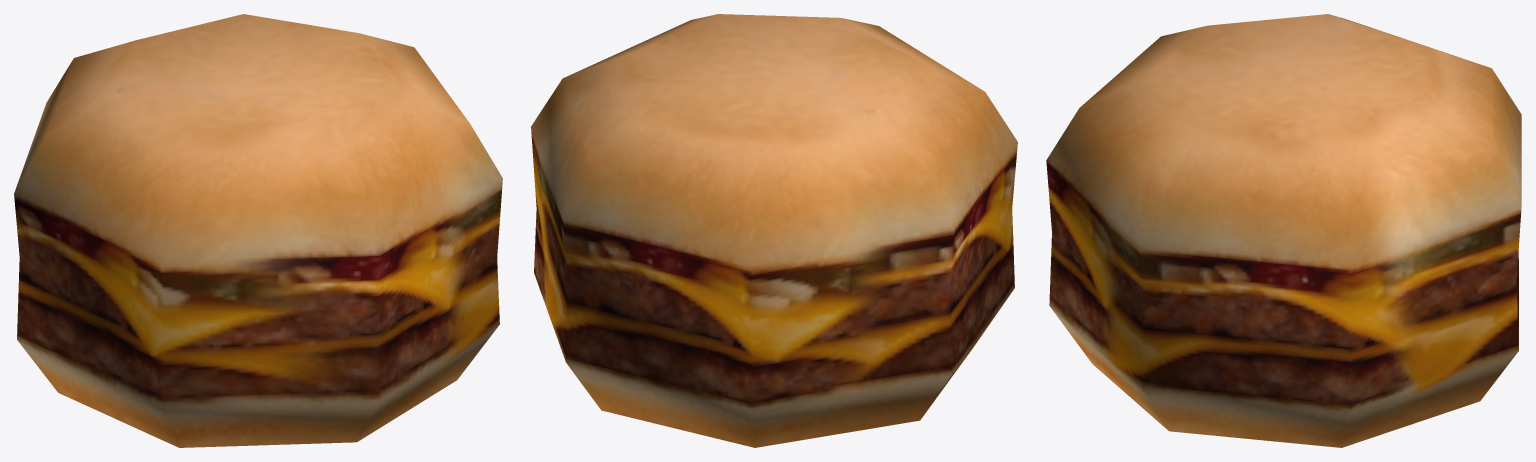
Rendered from Hamburger_03.dae.
The picture shows the model from 3 angles, left to right: view 1: azimuth 30°, elevation 25°; view 2: azimuth 150°, elevation 25°; view 3: azimuth 270°, elevation 25°; orthographic projection.
Parts seen in each view (by area): view 1: Hamburger_03; view 2: Hamburger_03; view 3: Hamburger_03.
Part boxes in pixels (x1=…): Hamburger_03: x1=14, y1=14, x2=502, y2=447; Hamburger_03: x1=531, y1=14, x2=1017, y2=447; Hamburger_03: x1=1046, y1=14, x2=1521, y2=447.
Bounding box in the file's own units: 0.1976 × 0.1927 × 0.1302.
Materials: 1 (1 with a texture image).
